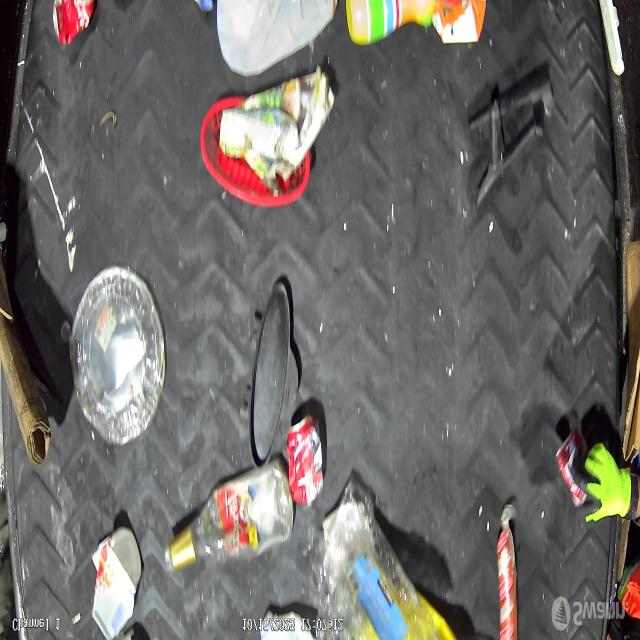can: (286, 412, 324, 510), (556, 425, 592, 510), (48, 0, 99, 46)
milk_jug: (211, 0, 338, 77)
plastic_bottle: (165, 461, 291, 586)
